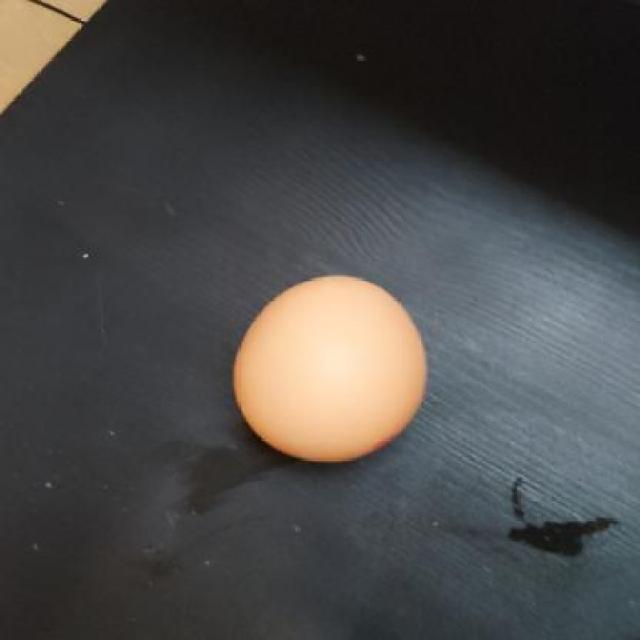biodegradable: (230, 274, 435, 468)
